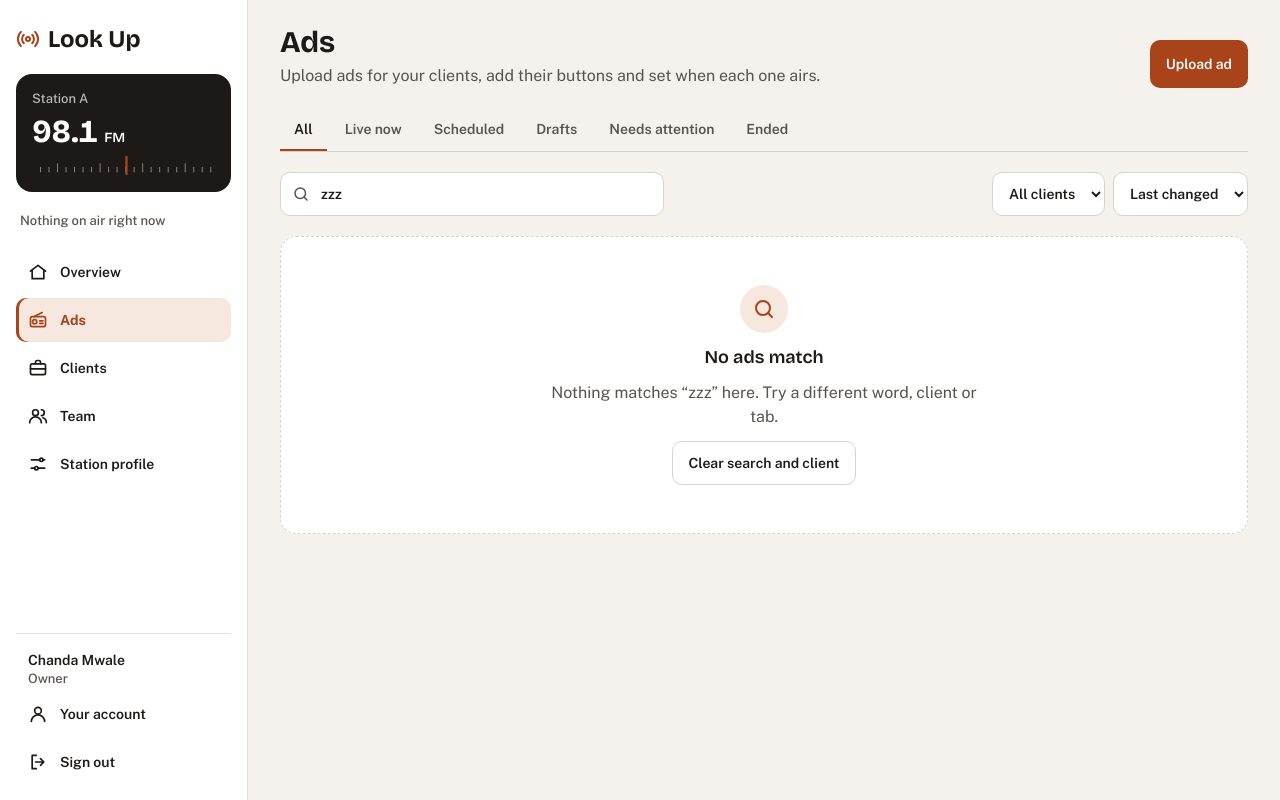
it: Ads list › tabs, search, client and sort live in the address › offers to clear a search that found nothing
Expected: the heading "No ads match" is shown, x1=704 y1=345 x2=824 y2=369
Expected: the text "matches “zzz”" is shown, x1=610 y1=383 x2=718 y2=402
Click the button "Clear search and client" at (764, 463), box x1=672 y1=441 x2=856 y2=485
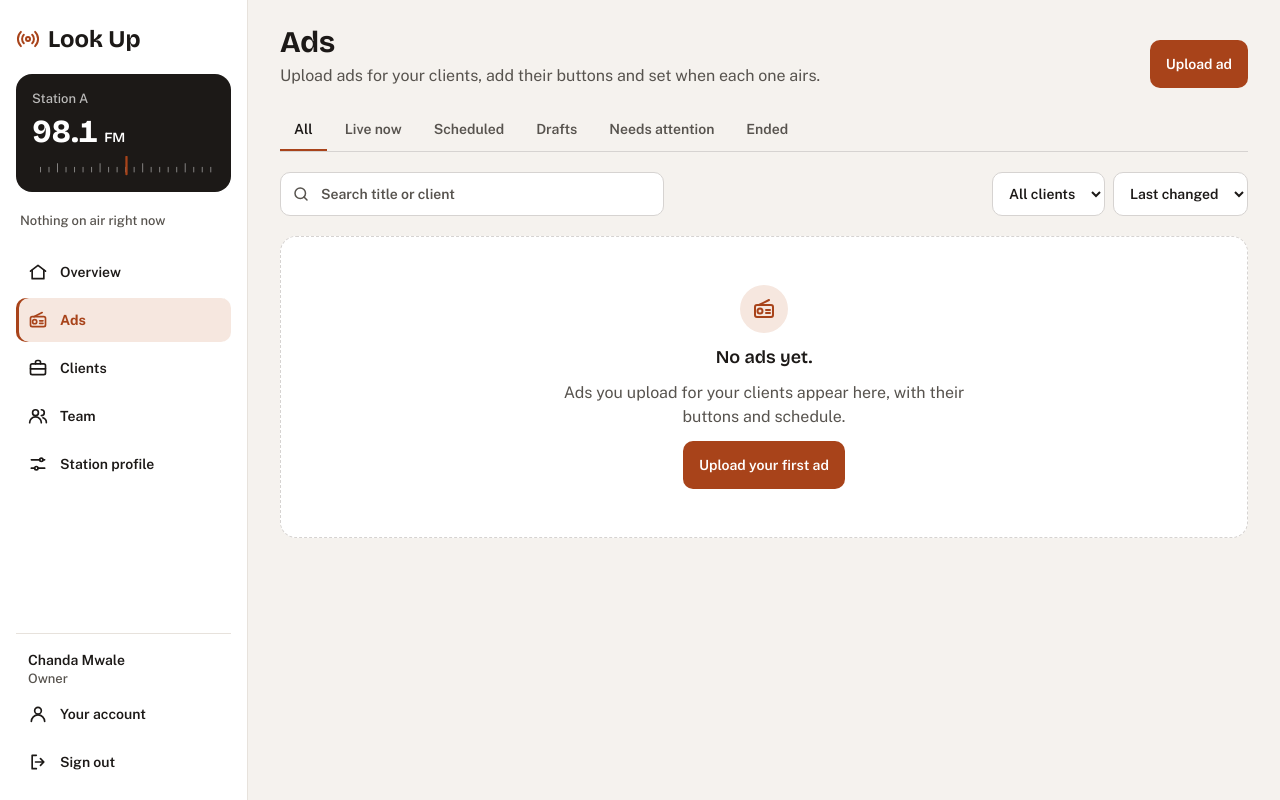
Result: the search field is empty at x1=280 y1=172 x2=664 y2=216
